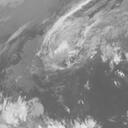cyclone: (37, 30, 84, 72)
